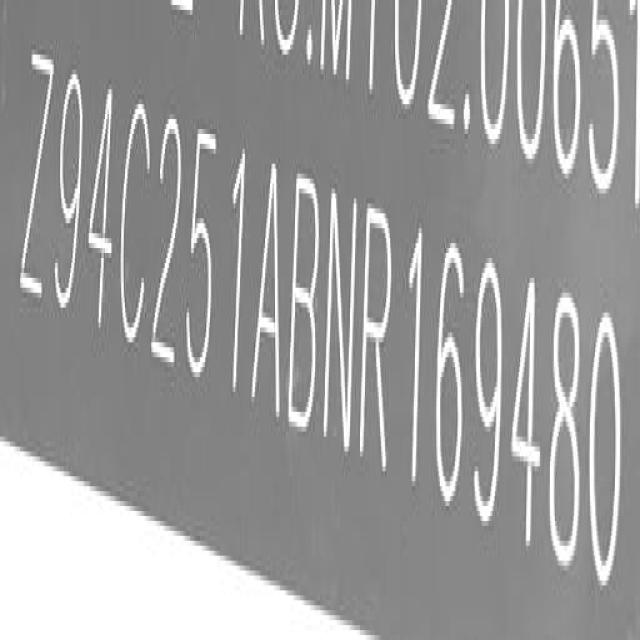0: (589, 305, 623, 586)
1: (227, 143, 246, 404), (406, 224, 424, 489)
2: (150, 122, 185, 370)
4: (507, 268, 542, 559), (86, 77, 115, 336)
5: (185, 107, 218, 380)
6: (434, 236, 464, 516)
8: (548, 289, 582, 575)
9: (473, 259, 503, 531), (54, 64, 83, 323)
A: (251, 153, 285, 424)
B: (291, 178, 320, 441)
C: (120, 85, 150, 349)
N: (326, 178, 356, 461)
R: (361, 195, 396, 478)
Z: (17, 50, 53, 303)
